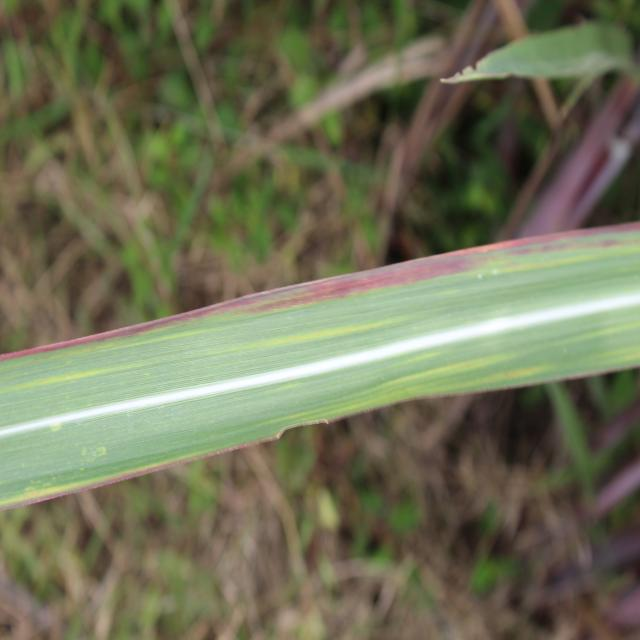Sugarcane: (0, 219, 640, 516)
